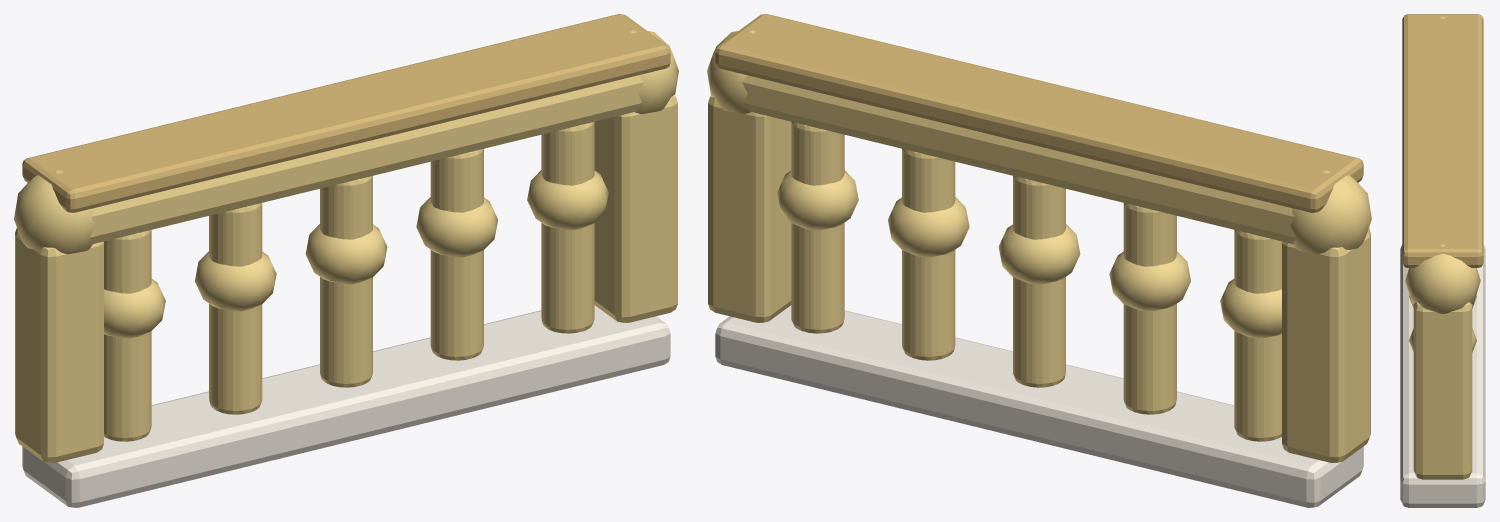
File: opera_shell_balustrade.glb
3 renders of one model, left to right at view 1: azimuth 30°, elevation 25°; view 2: azimuth 150°, elevation 25°; view 3: azimuth 270°, elevation 25°, orthographic. The views are drawn at different scales.
Parts seen in each view (by area): view 1: opera_shell_balustrade.001; view 2: opera_shell_balustrade.001; view 3: opera_shell_balustrade.001.
Boxes of the visible parts, x1,y1,x2,y2 form: opera_shell_balustrade.001: (14,14,678,507); opera_shell_balustrade.001: (707,14,1371,507); opera_shell_balustrade.001: (1400,14,1485,507).
Bounding box in the file's own units: 6.46 × 3.04 × 0.9.
